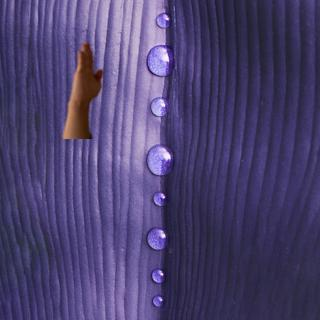RIGHT: (63, 36, 107, 111)
